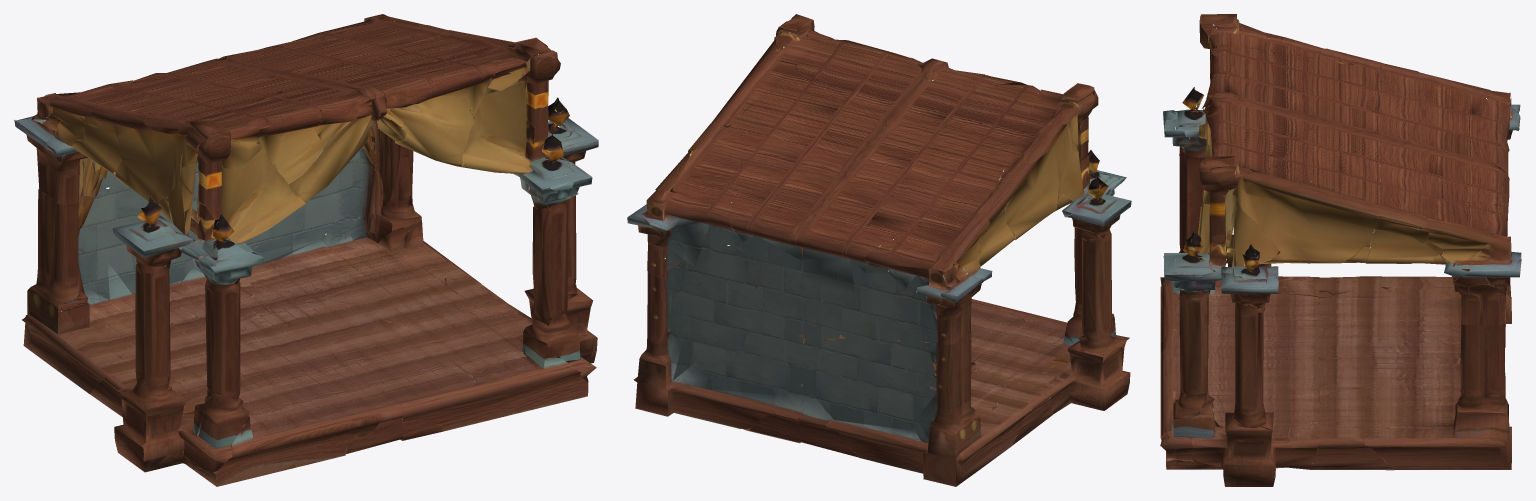
The model's file is mesh_celebration_stage_a.glb.
The picture shows the model from 3 angles, left to right: view 1: azimuth 30°, elevation 25°; view 2: azimuth 150°, elevation 25°; view 3: azimuth 270°, elevation 25°; orthographic projection. The views are drawn at different scales.
Parts seen in each view (by area): view 1: mesh_celebration_stage_a__mesh_celebration_stage_a__Mesh_0; view 2: mesh_celebration_stage_a__mesh_celebration_stage_a__Mesh_0; view 3: mesh_celebration_stage_a__mesh_celebration_stage_a__Mesh_0.
Part boxes in pixels (x1,y1,x2,y2): mesh_celebration_stage_a__mesh_celebration_stage_a__Mesh_0: (14, 14, 598, 486); mesh_celebration_stage_a__mesh_celebration_stage_a__Mesh_0: (627, 14, 1131, 486); mesh_celebration_stage_a__mesh_celebration_stage_a__Mesh_0: (1160, 14, 1521, 486).
Size of the model in its own units: 22 by 15.45 by 16.88.
Materials: 1 (1 with a texture image).
